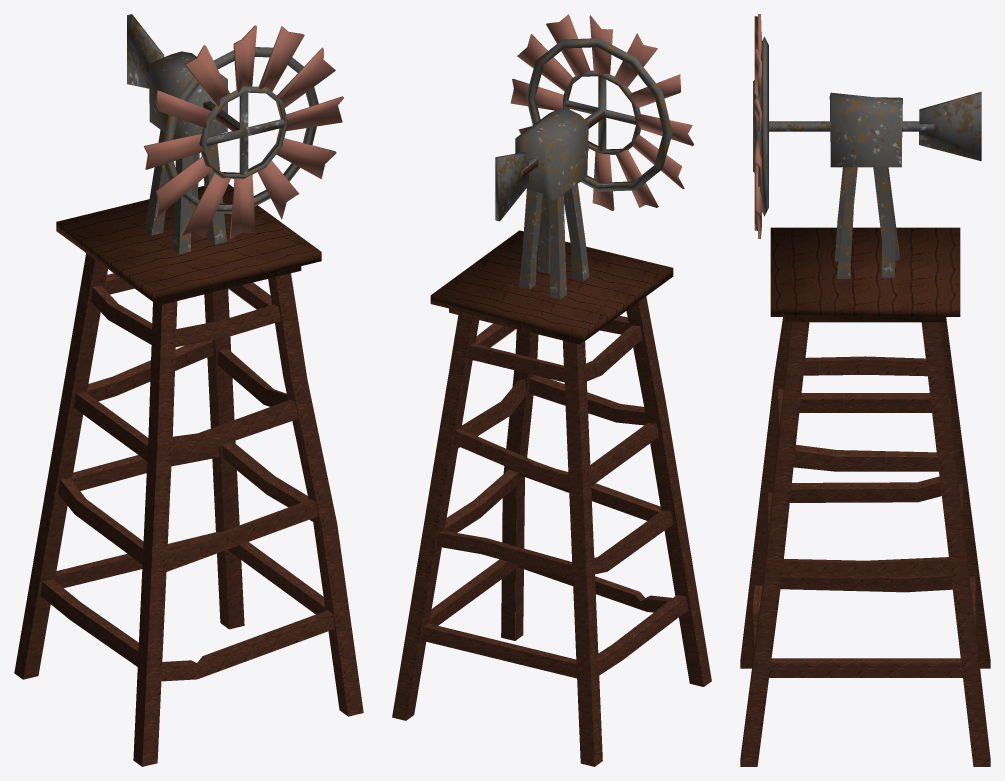
File: MoinhoVento.glb
3 views of the same model, side by side, from view 1: azimuth 30°, elevation 25°; view 2: azimuth 150°, elevation 25°; view 3: azimuth 270°, elevation 25° (orthographic). The views are drawn at different scales.
Parts seen in each view (by area): view 1: MoinhoVento; view 2: MoinhoVento; view 3: MoinhoVento.
Boxes of the visible parts, x1,y1,x2,y2 form: MoinhoVento: [14, 14, 363, 766]; MoinhoVento: [392, 14, 711, 766]; MoinhoVento: [740, 14, 990, 766].
Bounding box in the file's own units: 4.64 × 14.11 × 4.65.
1 material, 1 textured.
